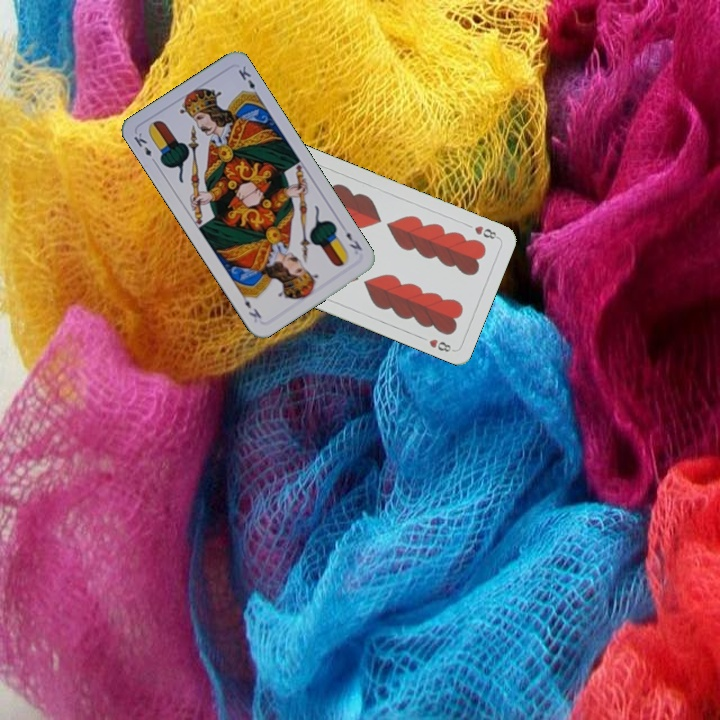EK: (129, 128, 159, 166), (342, 228, 365, 253)
H8: (470, 221, 501, 242)
